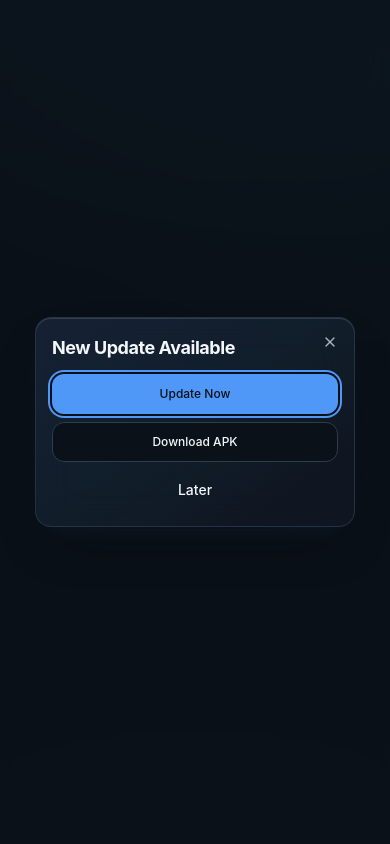
AppUpdateManager › shows measured bytes and throughput, and caps progress below 100 while verification is running
The image size is (390, 844).
Later steps or results of the test are not shown.
Expected: the heading "New Update Available" is shown, [52, 337, 235, 358]
What coordinates should you click on to do the following:
click the button "Download APK"
I would click on:
 (195, 442)
Its box is [52, 422, 338, 462].
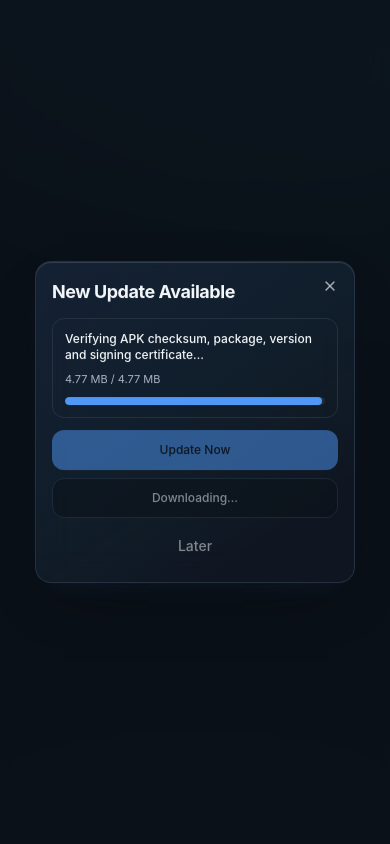
Expected: the text "0.48 MB/s" is shown, [65, 372, 160, 386]
Expected: the text "Verifying APK checksum" is shown, [65, 331, 312, 362]
